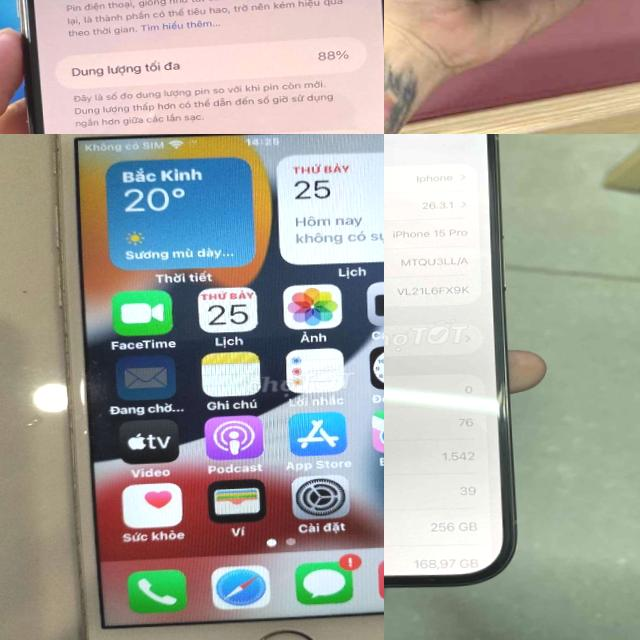gen_11: (8, 0, 384, 134)
gen_15: (384, 134, 539, 620)
gen_6: (56, 134, 384, 640)
